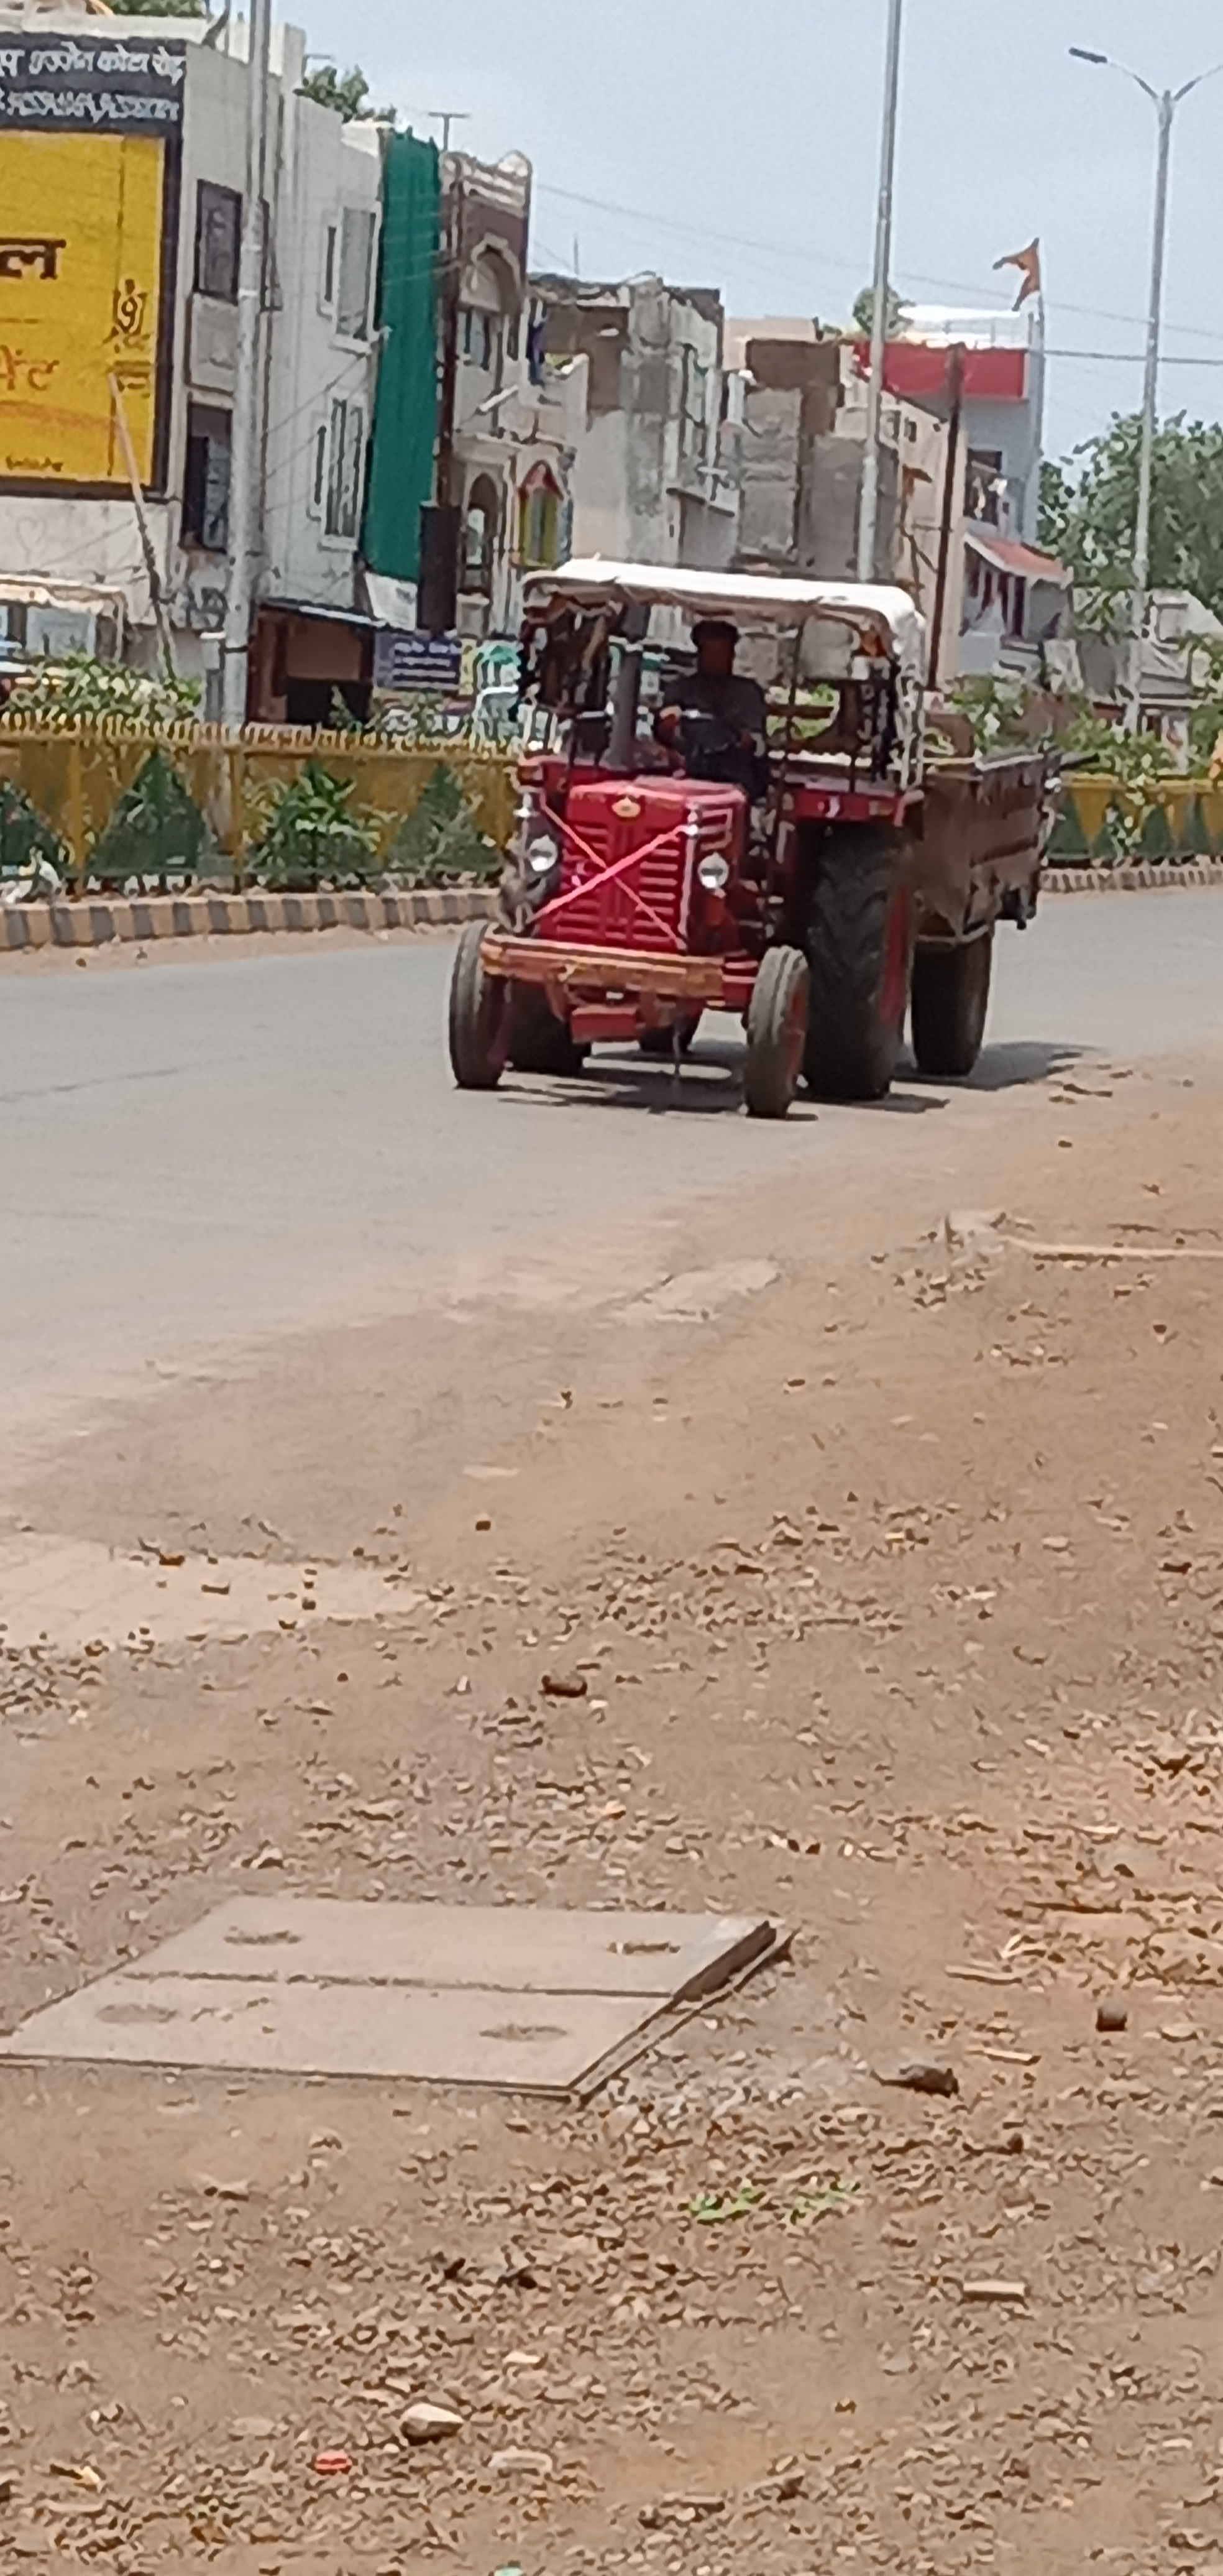tractor: (445, 554, 1052, 1122)
